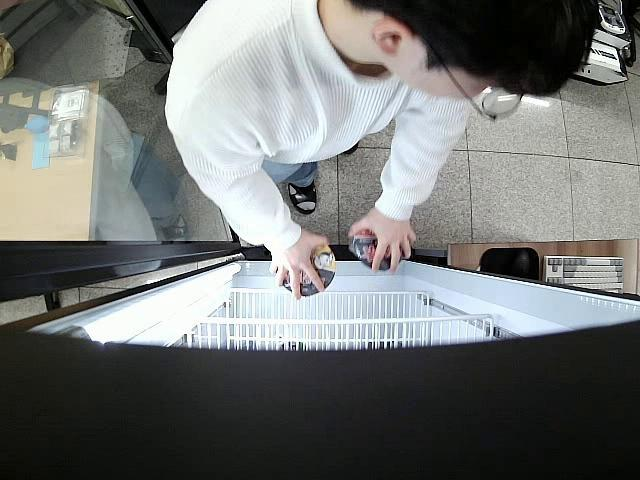07_buldak_L: (276, 244, 338, 298), (350, 226, 404, 271)
